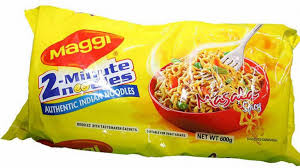maggi: (30, 9, 290, 155)
